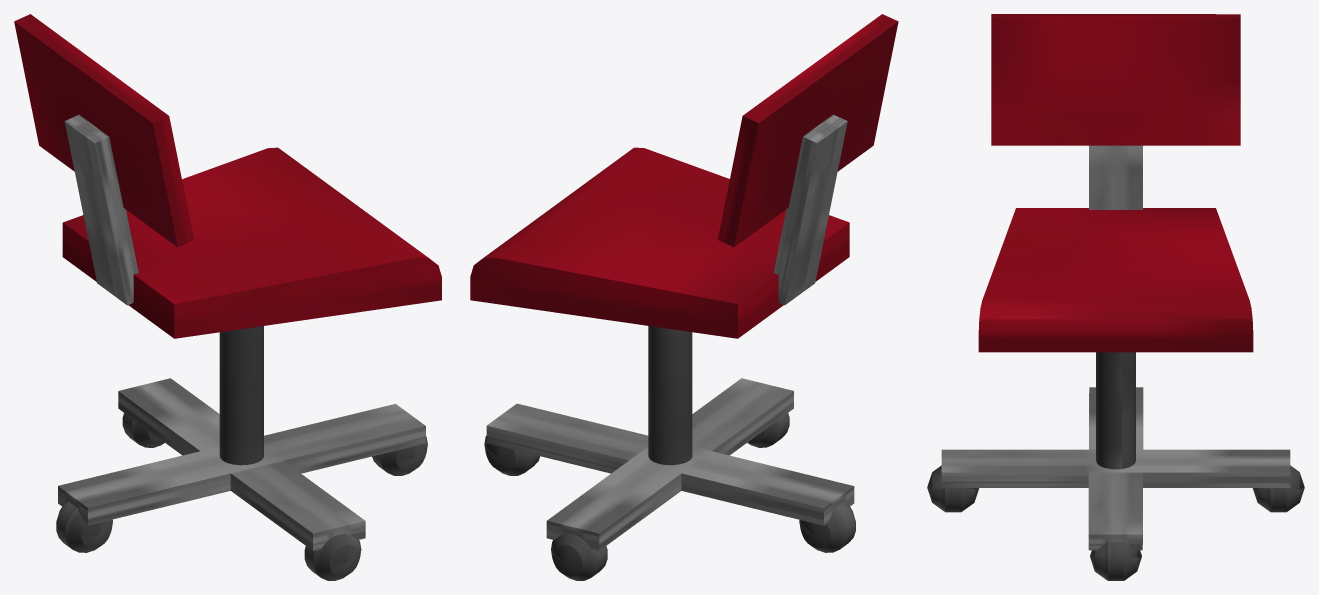
The model's file is Office_chair_ending.fbx.
The picture shows the model from 3 angles, left to right: view 1: azimuth 30°, elevation 25°; view 2: azimuth 150°, elevation 25°; view 3: azimuth 270°, elevation 25°; orthographic projection. The views are drawn at different scales.
Parts seen in each view (by area): view 1: pCube18; view 2: pCube18; view 3: pCube18.
Part boxes in pixels (x1=…): pCube18: x1=14, y1=14, x2=441, y2=580; pCube18: x1=470, y1=14, x2=898, y2=580; pCube18: x1=927, y1=14, x2=1304, y2=580.
Bounding box in the file's own units: 6.91 × 8.75 × 6.97.
